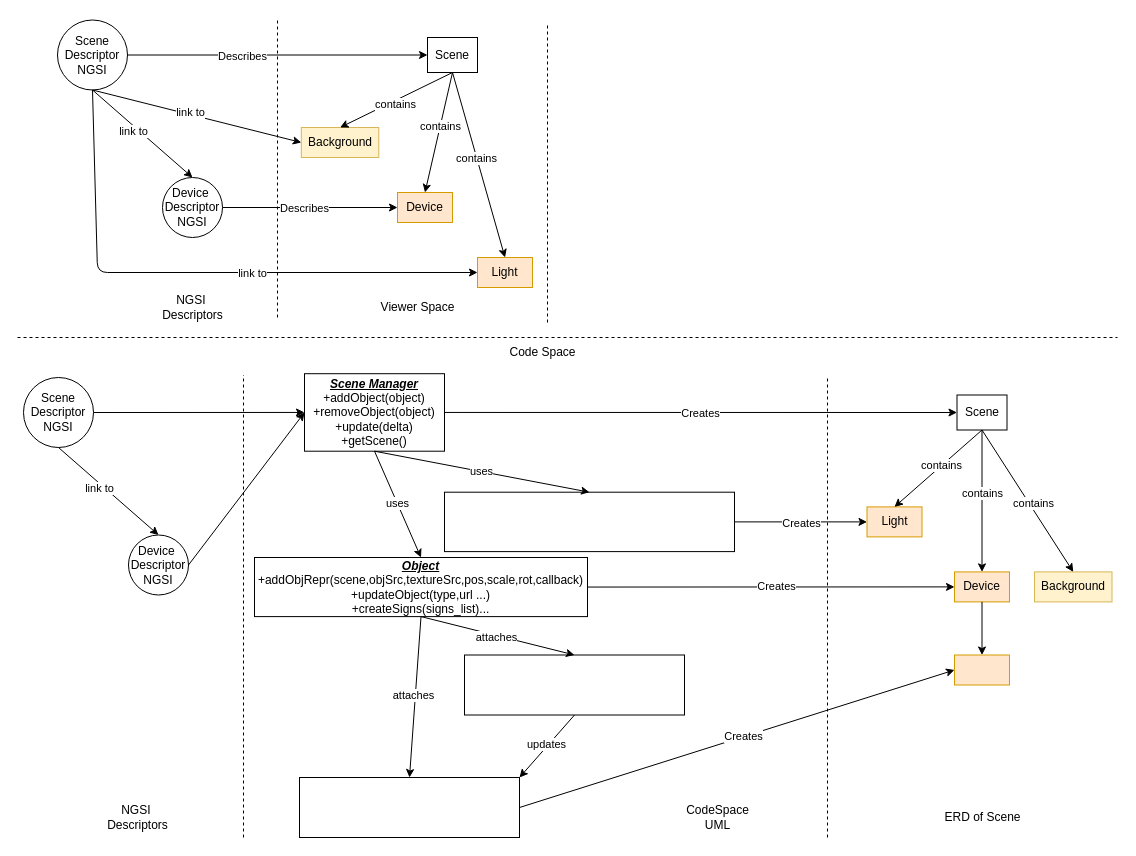
Image size: 1136x856. Some labels were removed from this diagram. The shapes that lost their labels are listed below. From the top down, each one's centre as x and y in pixels, then its label:
At point (589, 521): "Light Manager +addObject(objSrc,textureSrc,pos,scale,rot,callback)".
At point (574, 684): "DataUpdateManager +subscribe(topic,object) +fetch(url,params)".
At point (982, 669): "Label".
At point (409, 807): "DynamicTextSign +updateText(newText) +updatePosition()".
